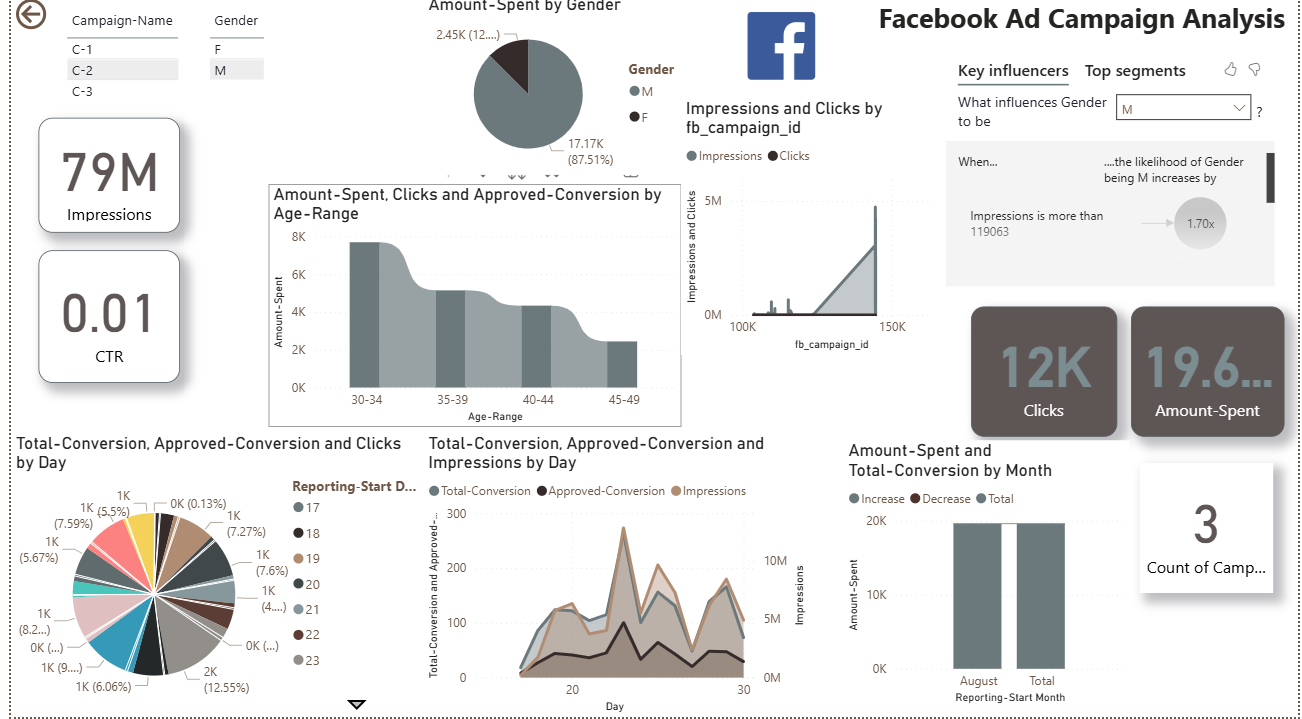

Layout of this report page (visuals, bound fields, positions):
{"tool":"powerbi","page":{"name":"Page 1","canvas":[1280,720],"ordinal":0},"visuals":[{"type":"ribbonChart","fields":{"Category":["data.Age-Range","data.Total-Conversion","data.Campaign-Name"],"Y":["Sum(data.Amount-Spent)"]},"box":[256.3,189.1,410.5,242.6],"z":0},{"type":"tableEx","fields":{"Values":["data.Campaign-Name"]},"box":[49.8,10,181.6,103.2],"z":1000},{"type":"pieChart","fields":{"Category":["data.Reporting-Start.Variation.Date Hierarchy.Day"],"Y":["Sum(data.Total-Conversion)","Sum(data.Approved-Conversion)","Sum(data.Clicks)"]},"box":[0,436.5,411,283.5],"z":2000},{"type":"tableEx","fields":{"Values":["data.Gender 2"]},"box":[191.6,10,112,163],"z":3000},{"type":"areaChart","fields":{"Category":["data.Reporting-Start.Variation.Date Hierarchy.Day"],"Y2":["Sum(data.Impressions)"],"Y":["Sum(data.Total-Conversion)","Sum(data.Approved-Conversion)"]},"box":[411,436.5,385.5,283.5],"z":4000},{"type":"card","fields":{"Values":["Sum(data.Impressions)"]},"box":[27.4,123.2,140.6,114.4],"z":5000},{"type":"card","fields":{"Values":["Sum(data.Amount-Spent)"]},"box":[1114.6,311,153,129.4],"z":6000},{"type":"card","fields":{"Values":["Sum(data.Clicks)"]},"box":[955.4,311,145.5,129.4],"z":7000},{"type":"pieChart","fields":{"Category":["data.Gender","data.Age-Range"],"Y":["Sum(data.Amount-Spent)"]},"box":[410.5,0,274.9,180.4],"z":8000},{"type":"textbox","box":[858.6,0,422.1,63.7],"z":9000},{"type":"waterfallChart","fields":{"Category":["data.Reporting-Start.Variation.Date Hierarchy.Month","data.Reporting-Start.Variation.Date Hierarchy.Day","data.Campaign-Name"],"Y":["Sum(data.Amount-Spent)"]},"box":[828.5,444.1,284.9,267.5],"z":10000},{"type":"actionButton","box":[0,0,100,40],"z":11000},{"type":"areaChart","fields":{"Category":["data.fb_campaign_id"],"Y":["Sum(data.Impressions)","Sum(data.Clicks)"]},"box":[666.8,103.2,258.7,256.3],"z":12000},{"type":"keyDriversVisual","fields":{"Target":["data.Gender"],"ExplainBy":["Sum(data.Clicks)","Sum(data.Impressions)","Sum(data.Amount-Spent)"]},"box":[925.5,51,337.1,245.1],"z":13000},{"type":"image","box":[685.4,10,163,83.3],"z":14000},{"type":"card","fields":{"Values":["Count(data.Campaign-Name)"]},"box":[1123.3,466.5,133.1,129.4],"z":15000},{"type":"card","fields":{"Values":["data.CTR"]},"box":[27.4,255,140.6,131.9],"z":16000}]}

Visuals, with their boxes in screenshot pixels (x1, y1, x2, y2), scaled from the page's 1280x720 canvas onto the 1302x719 screenshot:
ribbonChart - data.Age-Range x data.Total-Conversion: select_region(261, 189, 678, 431)
tableEx - data.Campaign-Name: select_region(51, 10, 235, 113)
pieChart - data.Reporting-Start.Variation.Date Hierarchy.Day x Sum(data.Total-Conversion): select_region(0, 436, 418, 718)
tableEx - data.Gender 2: select_region(195, 10, 309, 173)
areaChart - data.Reporting-Start.Variation.Date Hierarchy.Day x Sum(data.Impressions): select_region(418, 436, 810, 718)
card - Sum(data.Impressions): select_region(28, 123, 171, 237)
card - Sum(data.Amount-Spent): select_region(1134, 311, 1289, 440)
card - Sum(data.Clicks): select_region(972, 311, 1120, 440)
pieChart - data.Gender x data.Age-Range: select_region(418, 0, 697, 180)
textbox: select_region(873, 0, 1301, 64)
waterfallChart - data.Reporting-Start.Variation.Date Hierarchy.Month x data.Reporting-Start.Variation.Date Hierarchy.Day: select_region(843, 443, 1133, 711)
actionButton: select_region(0, 0, 102, 40)
areaChart - data.fb_campaign_id x Sum(data.Impressions): select_region(678, 103, 941, 359)
keyDriversVisual - data.Gender x Sum(data.Clicks): select_region(941, 51, 1284, 296)
image: select_region(697, 10, 863, 93)
card - Count(data.Campaign-Name): select_region(1143, 466, 1278, 595)
card - data.CTR: select_region(28, 255, 171, 386)
